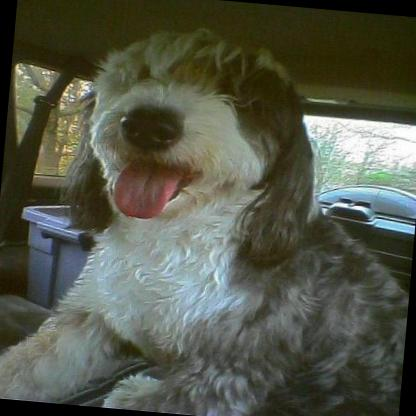Old_English_sheepdog: (0, 7, 416, 416)
